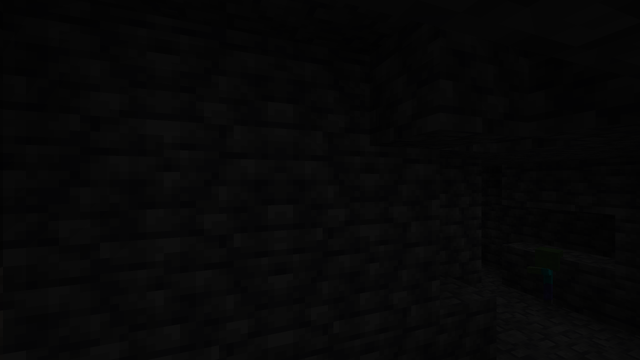zombies: (536, 254, 559, 306)
